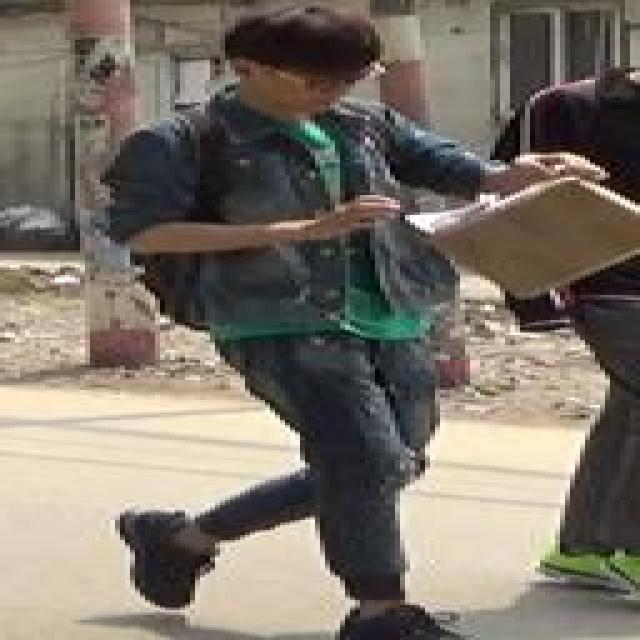adult: (96, 8, 553, 637), (496, 48, 640, 624)
